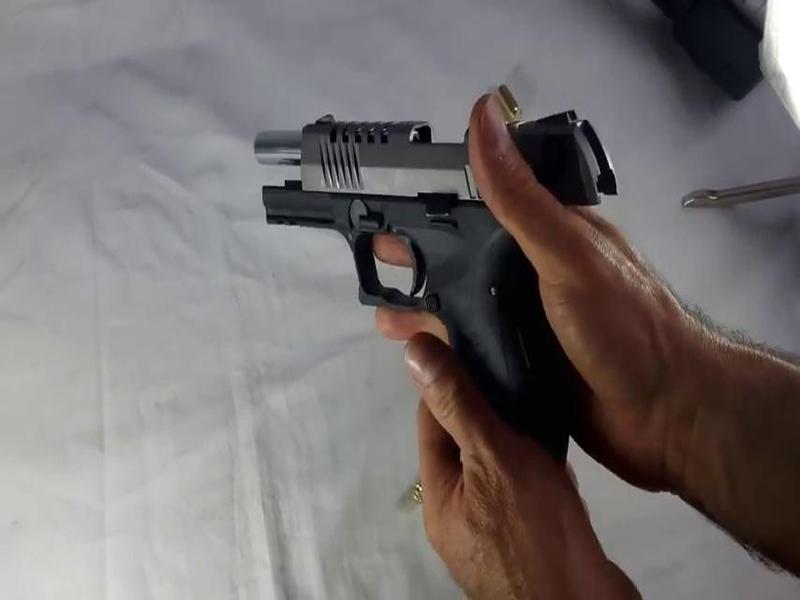Pistola: (219, 85, 650, 488)
